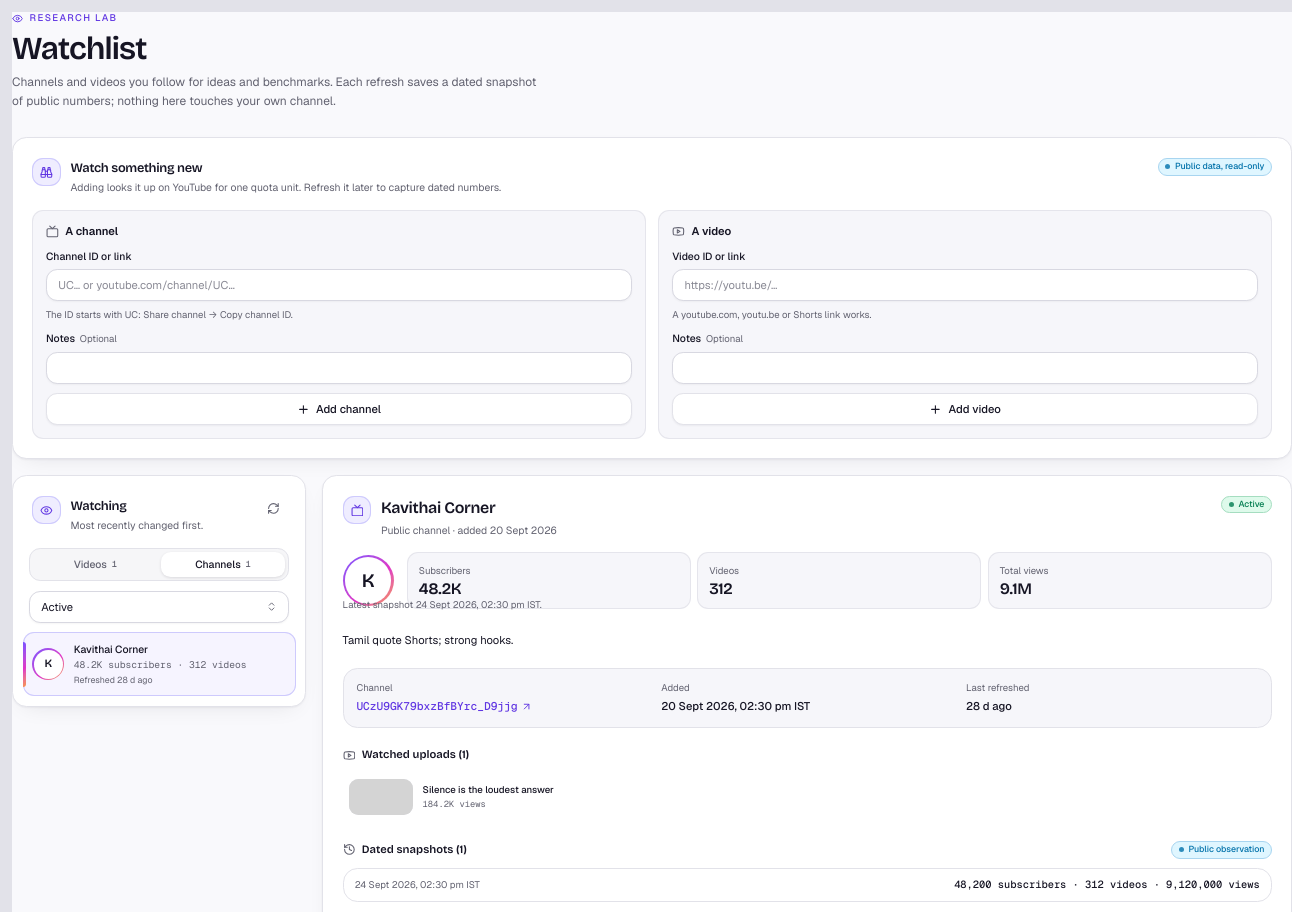
Test: WatchlistPage › opens a channel's watched upload from the channel
Expected: the heading "Kavithai Corner" is shown, [381,498,495,517]
Expected: the text "Tamil quote Shorts; strong hooks." is shown, [343,633,513,647]
What coordinates should you click on to do the following:
click the button "Silence is the loudest answer 184.2K views"
I would click on:
 (381, 797)
Its box is [343,773,806,822].
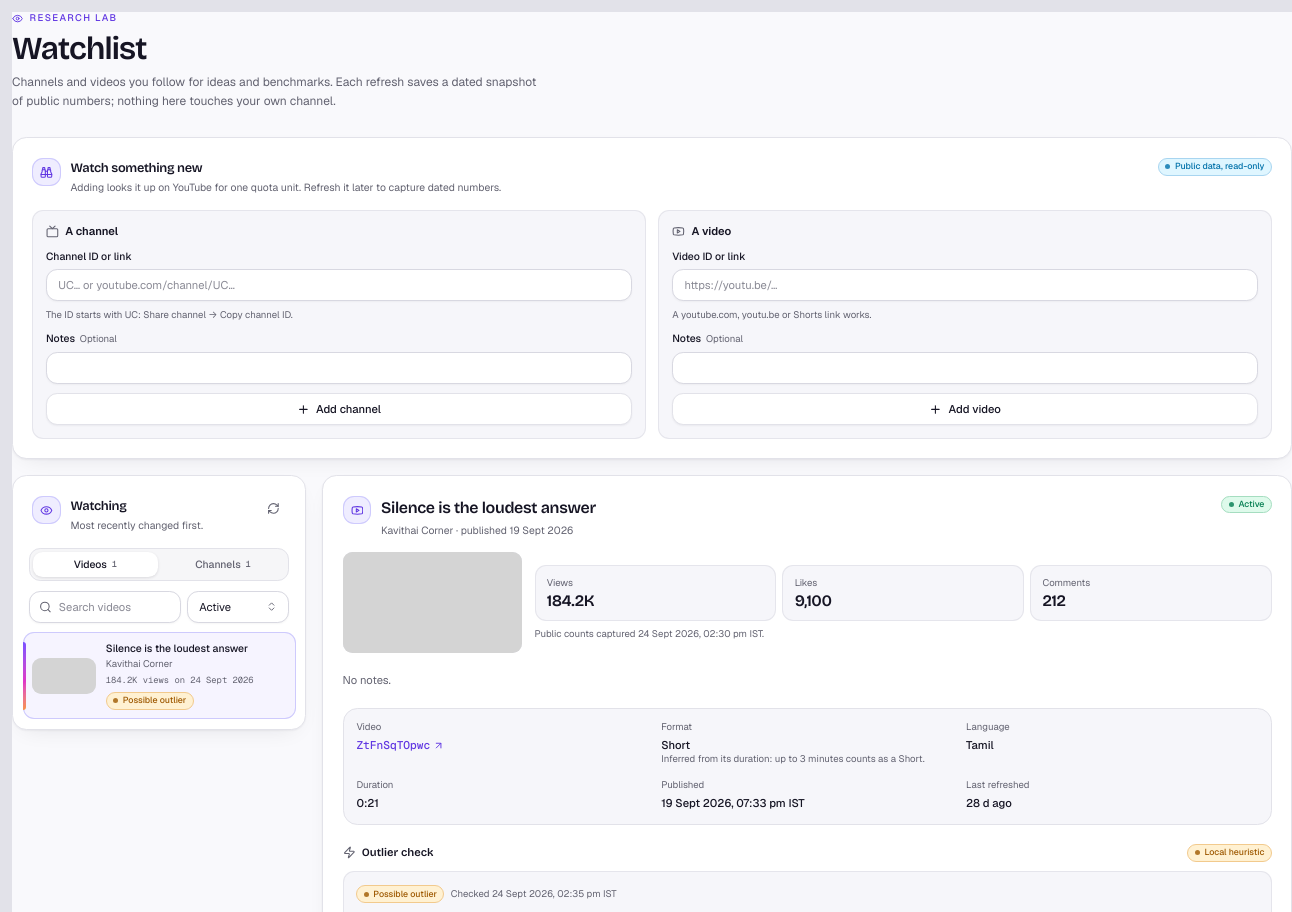
Now the heading "Silence is the loudest answer" is shown, box [381,497,596,520]
